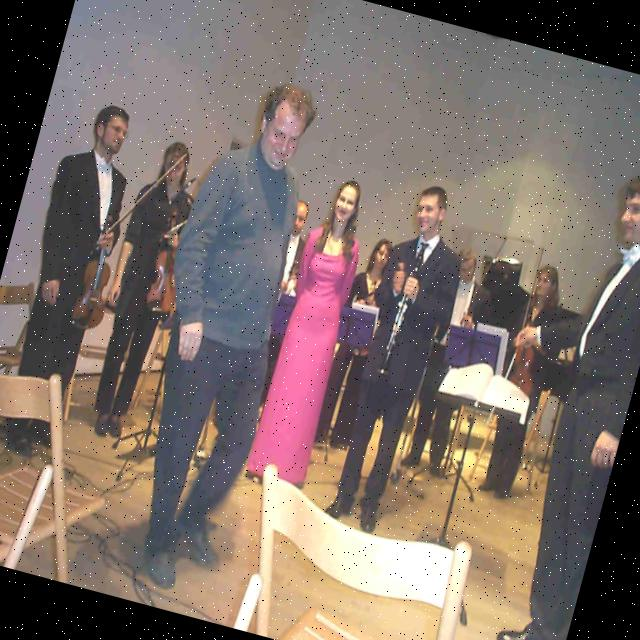clarinet: (374, 236, 429, 378)
violin: (65, 210, 130, 337), (490, 290, 560, 402), (140, 208, 197, 321)
